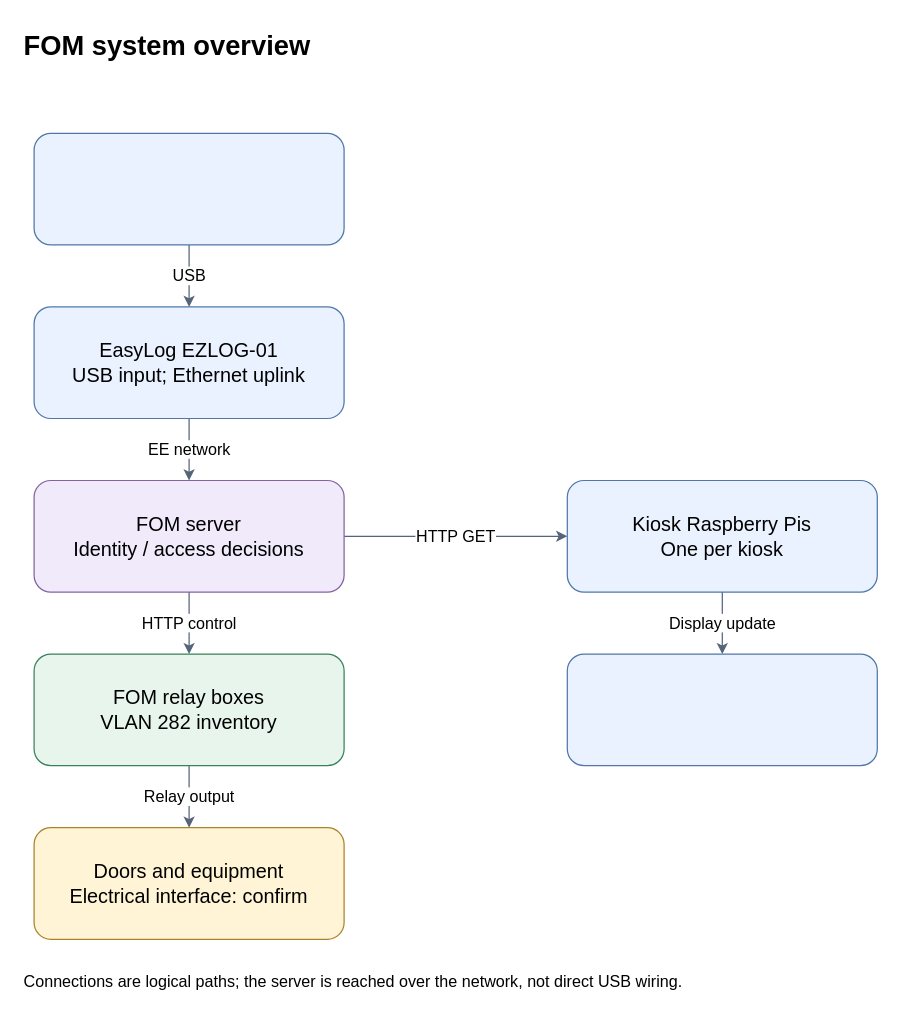
Some shapes in this 910 by 1032 pixel diagram are drawn without their labels. The box of each missing label's shape, as (x1, y1, x2, y2) in pixels:
RFID readers: (33, 132, 344, 245)
Touchscreen UI Authentication / certifications: (566, 653, 877, 766)
